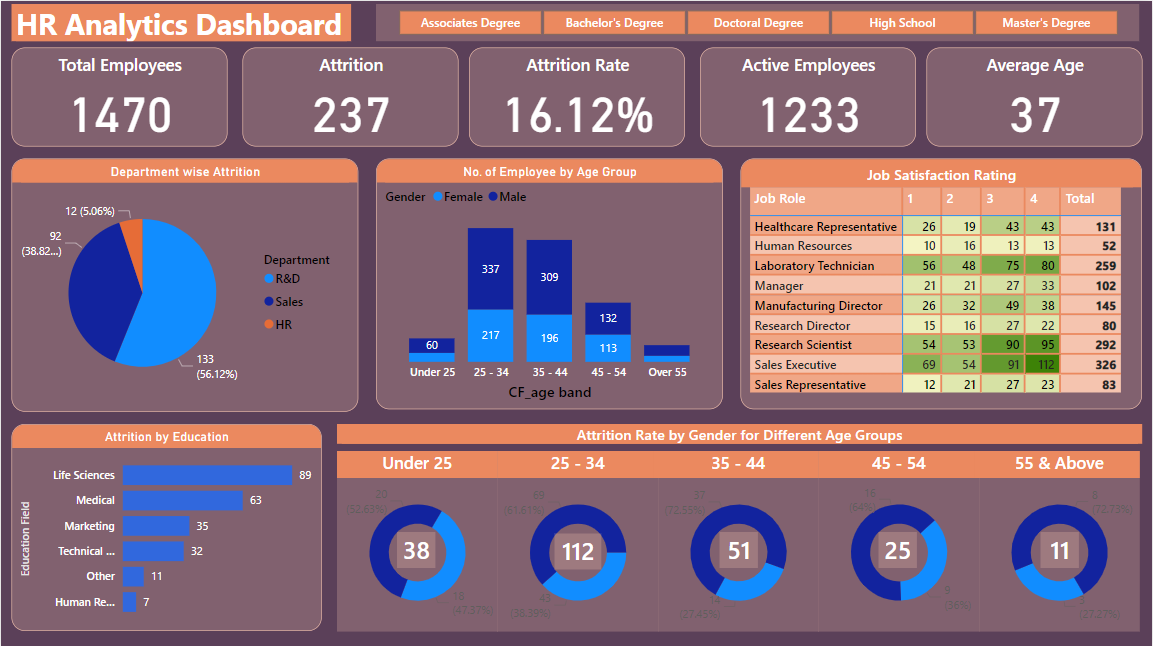

This screenshot's page, from the dashboard's own definition file:
{"tool":"powerbi","page":{"name":"EmployeeData Analysis","canvas":[1280,720],"ordinal":0},"visuals":[{"type":"card","title":"Total Employees","fields":{"Values":["Sum(HR data.Employee Count)"]},"box":[12.3,52.1,240.1,109.8],"z":0},{"type":"card","title":"Attrition","fields":{"Values":["Sum(HR data.Attrition count)"]},"box":[269,52.1,240.1,109.8],"z":1000},{"type":"card","title":"Attrition Rate","fields":{"Values":["HR data.Attrition rate"]},"box":[520.1,52.1,240.1,109.8],"z":2000},{"type":"card","title":"Active Employees","fields":{"Values":["HR data.Active Employees"]},"box":[776.7,52.1,240.1,109.8],"z":3000},{"type":"card","title":"Average Age","fields":{"Values":["Avg(HR data.Age)"]},"box":[1027.8,52.1,240.1,109.8],"z":4000},{"type":"pieChart","title":"Department wise Attrition","fields":{"Category":["HR data.Department"],"Y":["Sum(HR data.Attrition count)"]},"box":[12.3,175.6,385.6,281.3],"z":5000},{"type":"columnChart","title":"No. of Employee by Age Group","fields":{"Category":["HR data.CF_age band"],"Y":["Sum(HR data.Employee Count)"],"Series":["HR data.Gender"]},"box":[417.2,175.6,385.6,278.6],"z":6000},{"type":"pivotTable","title":"Job Satisfaction Rating","fields":{"Rows":["HR data.Job Role"],"Columns":["HR data.Job Satisfaction"],"Values":["Sum(HR data.Employee Count)"]},"box":[822,175.6,446,278.6],"z":7000},{"type":"barChart","title":"Attrition by Education","fields":{"Category":["HR data.Education Field"],"Y":["Sum(HR data.Attrition count)"]},"box":[12.3,469.3,344.4,230],"z":8000},{"type":"donutChart","title":"Under 25","fields":{"Category":["HR data.Gender"],"Y":["Sum(HR data.Attrition count)"],"Series":["HR data.CF_age band"]},"box":[373.2,499.5,178.4,200.3],"z":9000},{"type":"textbox","title":"Attrition Rate by Gender for Different Age Groups","box":[373.2,469.3,894.7,22],"z":10000},{"type":"donutChart","title":"25 - 34","fields":{"Category":["HR data.Gender"],"Y":["Sum(HR data.Attrition count)"],"Series":["HR data.CF_age band"]},"box":[551.6,499.5,178.4,200.3],"z":11000},{"type":"donutChart","title":"35 - 44","fields":{"Category":["HR data.Gender"],"Y":["Sum(HR data.Attrition count)"],"Series":["HR data.CF_age band"]},"box":[730,499.5,178.4,200.3],"z":12000},{"type":"donutChart","title":"45 - 54","fields":{"Category":["HR data.Gender"],"Y":["Sum(HR data.Attrition count)"],"Series":["HR data.CF_age band"]},"box":[908.4,499.5,178.4,200.3],"z":13000},{"type":"donutChart","title":"55 & Above","fields":{"Category":["HR data.Gender"],"Y":["Sum(HR data.Attrition count)"],"Series":["HR data.CF_age band"]},"box":[1086.8,499.5,178.4,200.3],"z":14000},{"type":"card","fields":{"Values":["Sum(HR data.Attrition count)"]},"box":[440.5,590.1,42.5,39.8],"z":15000},{"type":"card","fields":{"Values":["Sum(HR data.Attrition count)"]},"box":[614.8,591.4,52.1,39.8],"z":16000},{"type":"card","fields":{"Values":["Sum(HR data.Attrition count)"]},"box":[798.6,590.1,42.5,39.8],"z":17000},{"type":"card","fields":{"Values":["Sum(HR data.Attrition count)"]},"box":[975.6,590.1,42.5,39.8],"z":18000},{"type":"card","fields":{"Values":["Sum(HR data.Attrition count)"]},"box":[1155.4,590.1,42.5,39.8],"z":19000},{"type":"textbox","title":"HR Analytics Dashboard","box":[12.3,4.1,377.4,41.2],"z":20000},{"type":"slicer","fields":{"Values":["HR data.Education"]},"box":[417.2,4.1,848,41.2],"z":21000}]}

Visuals, with their boxes in screenshot pixels (x1, y1, x2, y2), scaled from the page's 1280x720 canvas onto the 1153x646 screenshot:
"Total Employees" card: (11,47,227,145)
"Attrition" card: (242,47,459,145)
"Attrition Rate" card: (468,47,685,145)
"Active Employees" card: (700,47,916,145)
"Average Age" card: (926,47,1142,145)
"Department wise Attrition" pieChart: (11,158,358,410)
"No. of Employee by Age Group" columnChart: (376,158,723,408)
"Job Satisfaction Rating" pivotTable: (740,158,1142,408)
"Attrition by Education" barChart: (11,421,321,627)
"Under 25" donutChart: (336,448,497,628)
"Attrition Rate by Gender for Different Age Groups" textbox: (336,421,1142,441)
"25 - 34" donutChart: (497,448,658,628)
"35 - 44" donutChart: (658,448,818,628)
"45 - 54" donutChart: (818,448,979,628)
"55 & Above" donutChart: (979,448,1140,628)
card - Sum(HR data.Attrition count): (397,529,435,565)
card - Sum(HR data.Attrition count): (554,531,601,566)
card - Sum(HR data.Attrition count): (719,529,758,565)
card - Sum(HR data.Attrition count): (879,529,917,565)
card - Sum(HR data.Attrition count): (1041,529,1079,565)
"HR Analytics Dashboard" textbox: (11,4,351,41)
slicer - HR data.Education: (376,4,1140,41)
